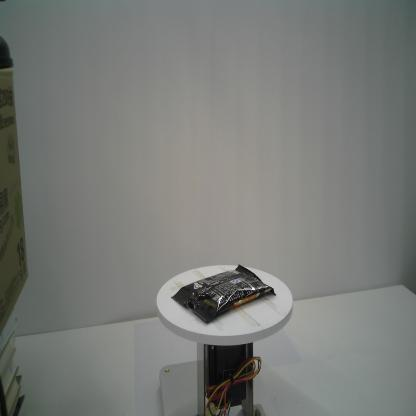Instant Drink: (171, 264, 276, 324)
